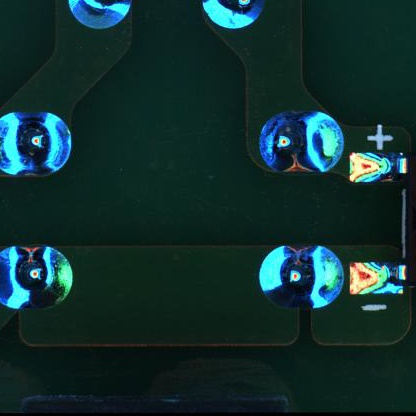spot: (250, 233, 347, 314), (254, 104, 346, 178)
